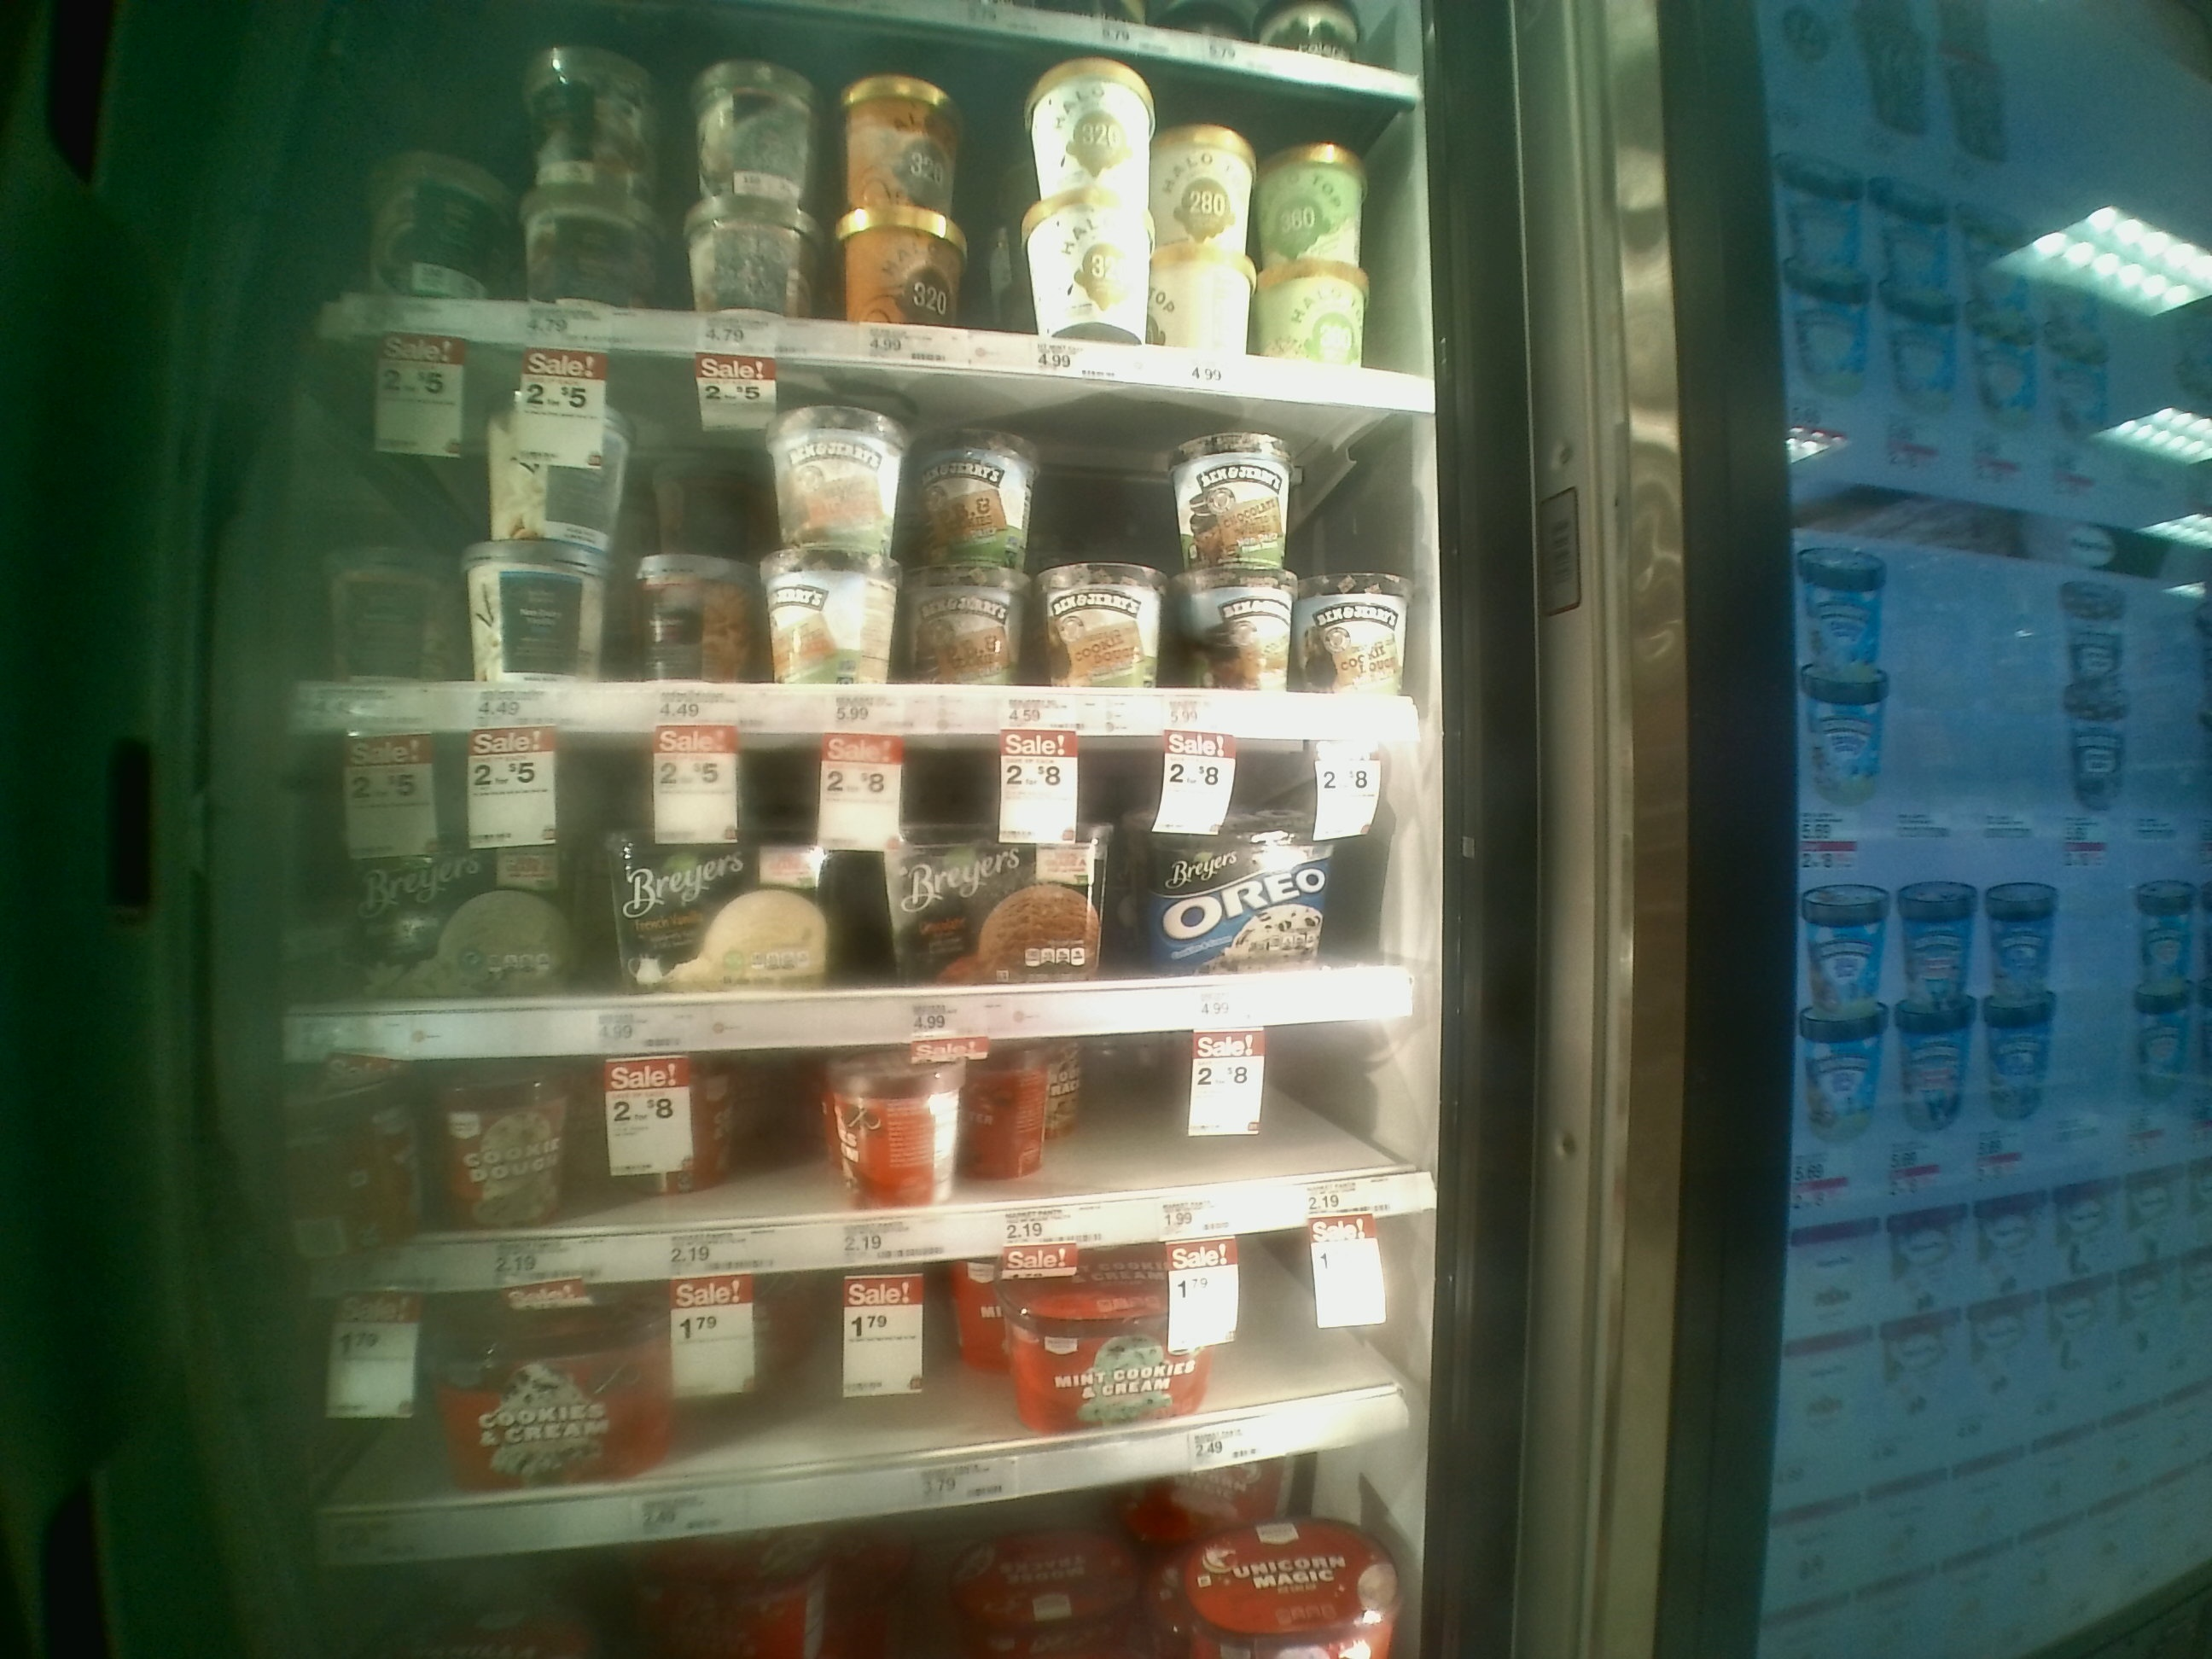shelf: (268, 328, 1451, 727), (307, 1199, 1439, 1570), (279, 728, 1440, 1040), (275, 1033, 1451, 1284)
